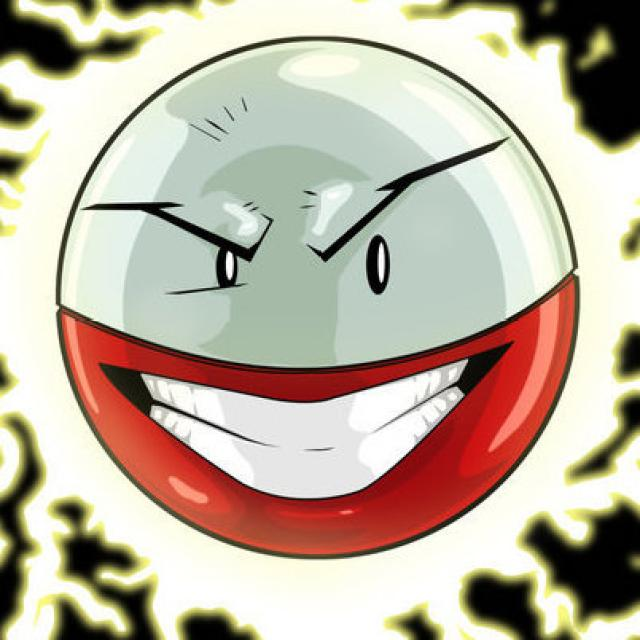Electrode: (44, 28, 586, 555)
